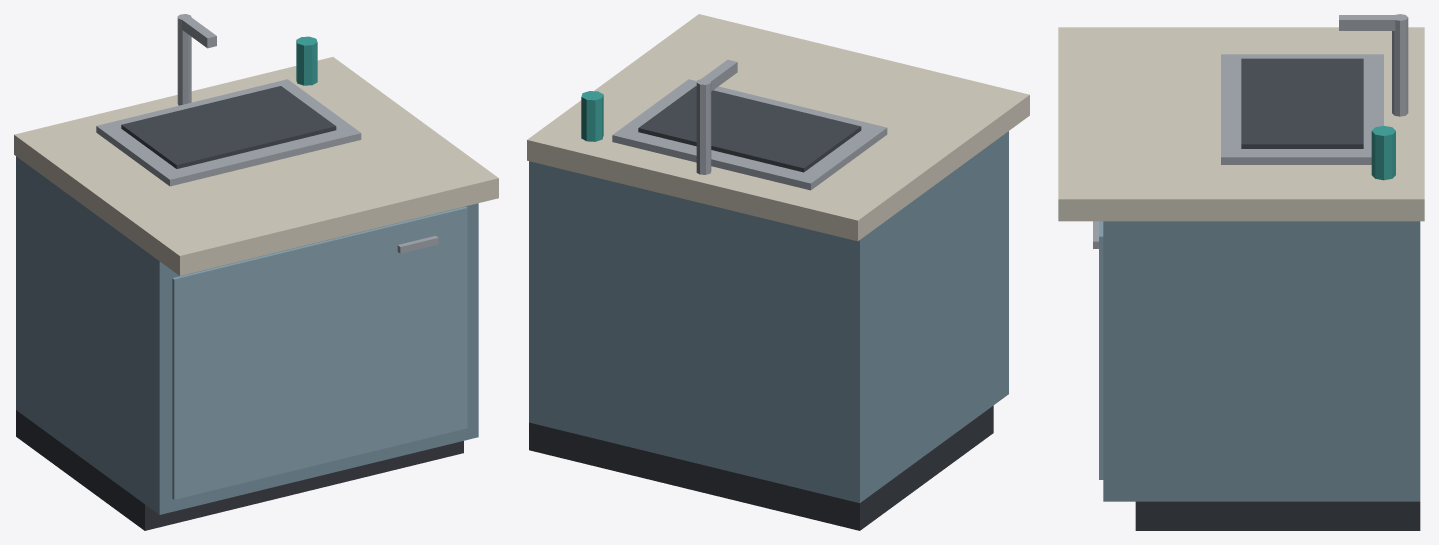
Rendered from counter_sink.glb.
The picture shows the model from 3 angles, left to right: view 1: azimuth 30°, elevation 25°; view 2: azimuth 150°, elevation 25°; view 3: azimuth 270°, elevation 25°; orthographic projection. The views are drawn at different scales.
Parts seen in each view (by area): view 1: counter_sink_mesh; view 2: counter_sink_mesh; view 3: counter_sink_mesh.
Boxes of the visible parts, x1,y1,x2,y2 form: counter_sink_mesh: [14, 14, 498, 530]; counter_sink_mesh: [527, 14, 1029, 530]; counter_sink_mesh: [1058, 14, 1424, 530].
Size of the model in its own units: 1 by 1.16 by 0.9.
